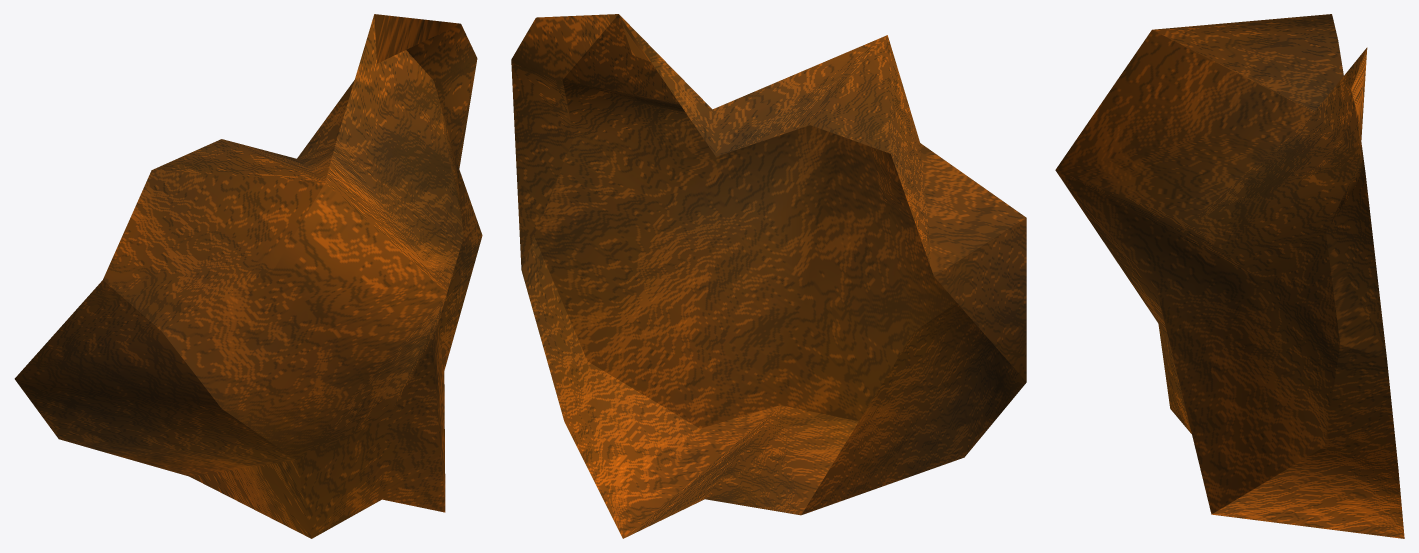
File: OreMedium.FBX
3 renders of one model, left to right at view 1: azimuth 30°, elevation 25°; view 2: azimuth 150°, elevation 25°; view 3: azimuth 270°, elevation 25°, orthographic. The views are drawn at different scales.
Parts seen in each view (by area): view 1: Box009; view 2: Box009; view 3: Box009.
Boxes of the visible parts, <box> form: Box009: <box>14,14,482,538</box>; Box009: <box>511,14,1026,538</box>; Box009: <box>1055,14,1404,538</box>.
Size of the model in its own units: 82.94 by 79.6 by 50.09.
